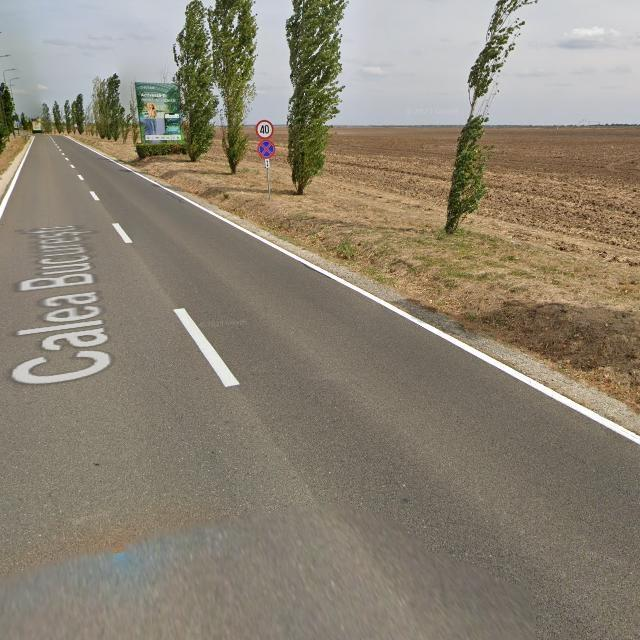forb_speed_over_40: (256, 119, 274, 140)
forb_waiting: (259, 141, 275, 159)
